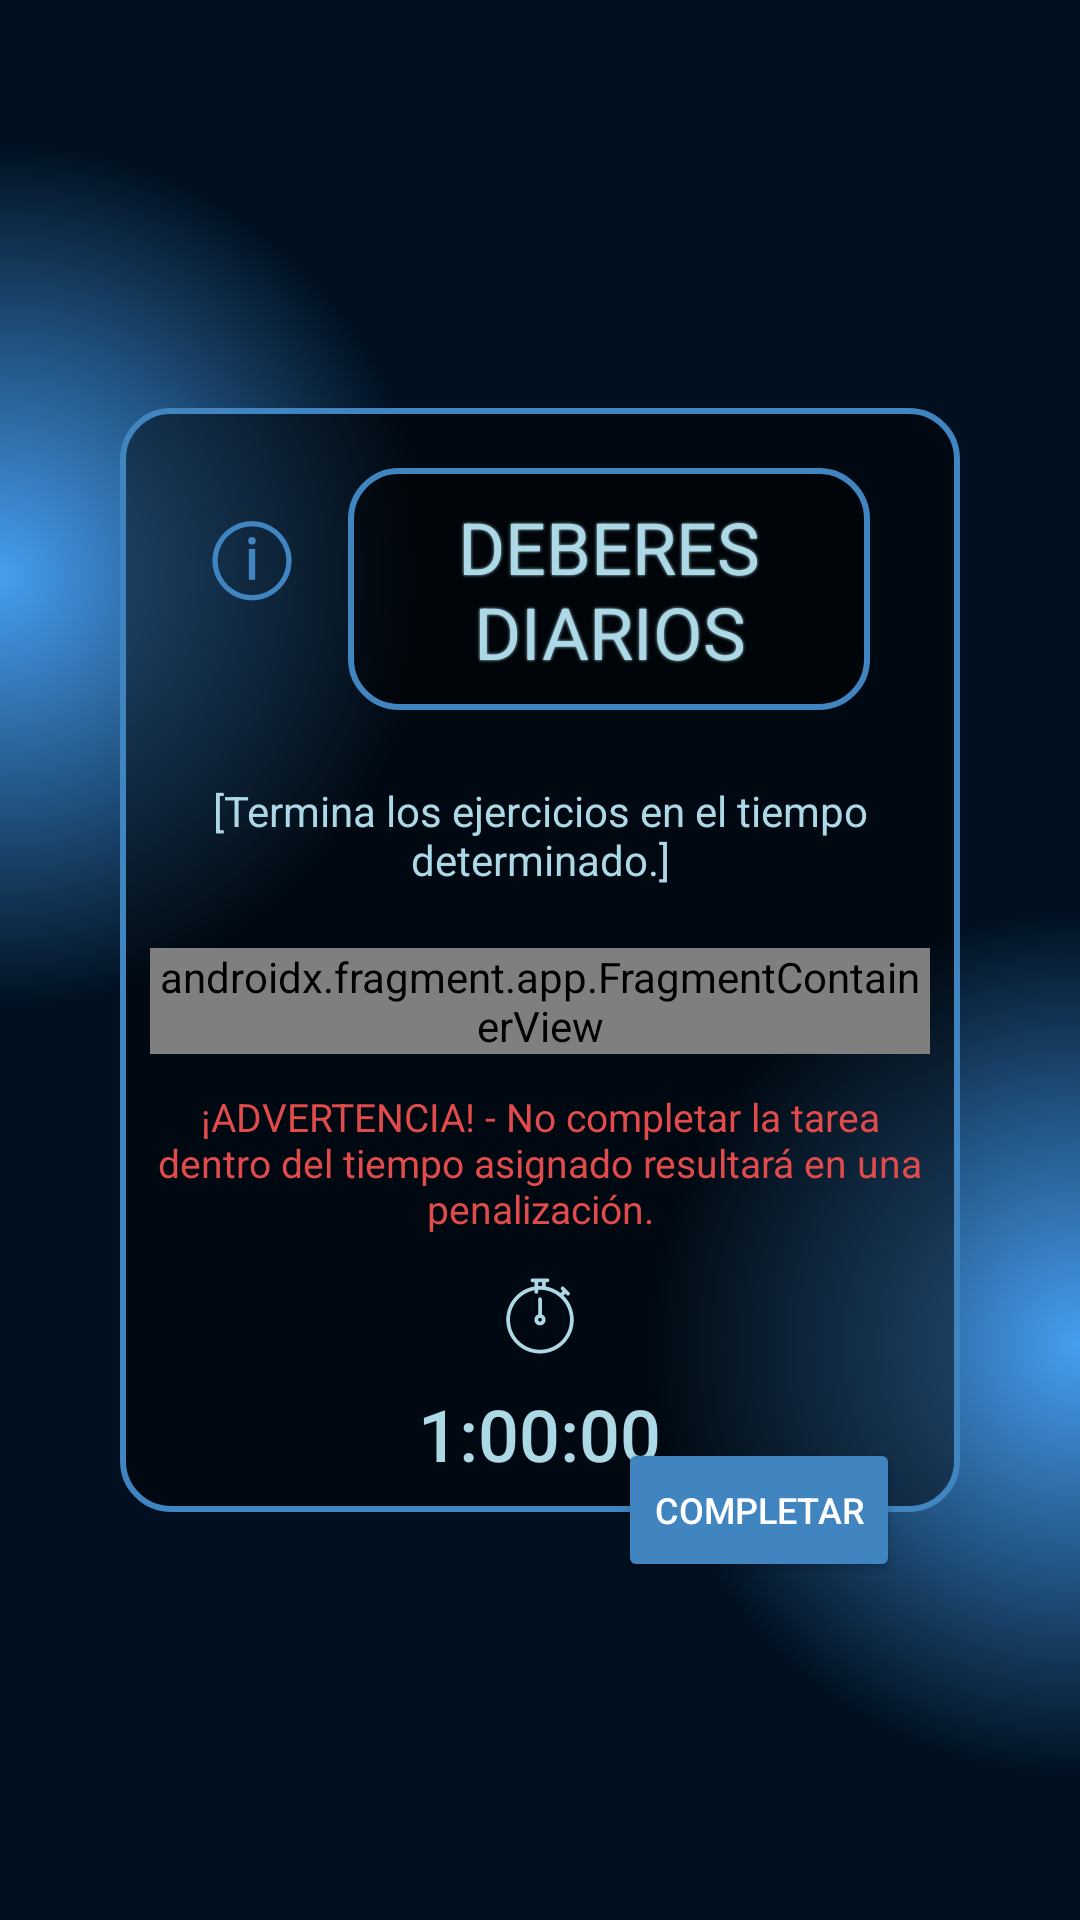

Named icons in this screenshot (1080*1920) and their bounding boxes, BBox(x1, y1, x2, y2):
timer: BBox(506, 1278, 574, 1354)
